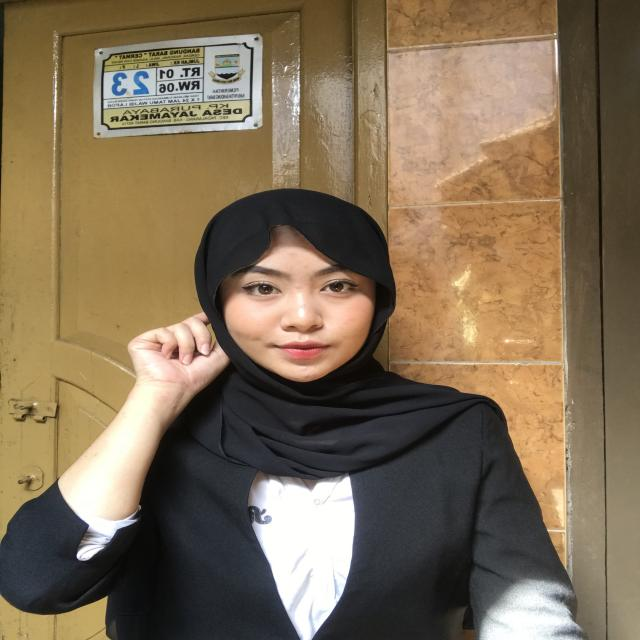ibu: (102, 299, 237, 460)
